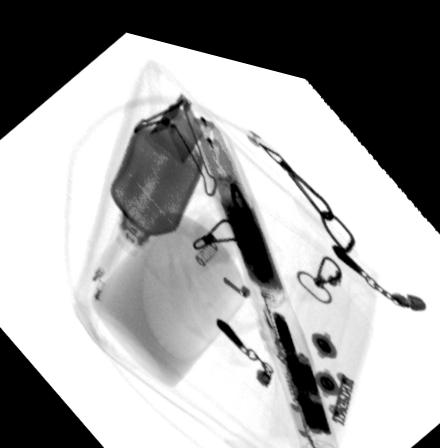Baton: (181, 88, 345, 448)
